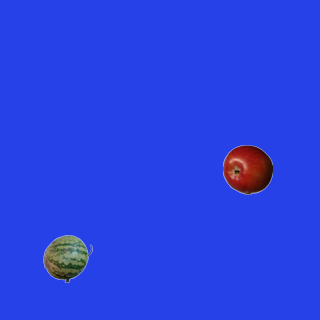Apple Braeburn: (222, 144, 272, 194)
Watermelon: (42, 233, 92, 283)
